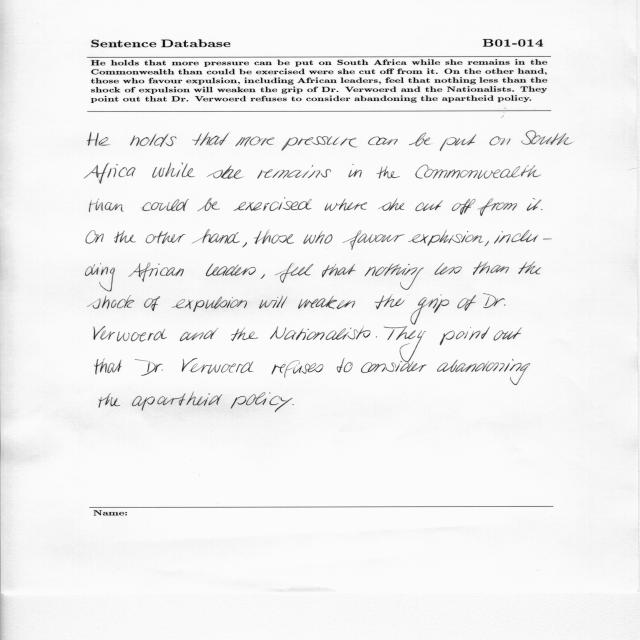word: (437, 359, 530, 385), (416, 164, 541, 179), (132, 392, 222, 411), (365, 264, 424, 290), (384, 326, 426, 360), (270, 326, 371, 340), (343, 230, 405, 250), (231, 392, 293, 412), (408, 230, 483, 246), (94, 326, 167, 342), (182, 358, 254, 374), (282, 136, 358, 151), (411, 295, 449, 325), (172, 297, 247, 312), (128, 262, 184, 282), (85, 163, 135, 184), (234, 198, 312, 211), (257, 165, 331, 178), (272, 360, 324, 378), (440, 327, 490, 345), (361, 360, 426, 373), (494, 230, 552, 244), (86, 264, 115, 292), (275, 263, 313, 283), (298, 296, 355, 309), (477, 198, 517, 216), (192, 229, 240, 244), (522, 131, 573, 145), (206, 264, 256, 277), (152, 163, 195, 178), (88, 295, 134, 309), (440, 134, 476, 151), (130, 134, 177, 147), (142, 199, 189, 211), (254, 230, 294, 244), (325, 198, 367, 211), (192, 132, 230, 146), (146, 231, 186, 244), (207, 165, 243, 179), (180, 328, 218, 341), (135, 359, 163, 376), (473, 262, 509, 275), (90, 199, 124, 212), (95, 359, 122, 375), (322, 264, 355, 277), (236, 137, 275, 147), (452, 199, 476, 215), (231, 327, 258, 341), (304, 231, 333, 244), (375, 296, 404, 309), (493, 328, 522, 341), (260, 296, 288, 309), (378, 198, 405, 211), (87, 131, 110, 146), (434, 263, 462, 275), (483, 294, 506, 308), (99, 393, 120, 408), (409, 133, 431, 147), (415, 201, 443, 212), (457, 295, 476, 311), (377, 166, 400, 179), (197, 198, 220, 211), (519, 262, 541, 275), (114, 231, 136, 243), (86, 230, 104, 244), (368, 137, 398, 145), (144, 296, 160, 311), (337, 358, 353, 373), (490, 137, 511, 146), (527, 198, 541, 211), (349, 164, 362, 177), (242, 242, 247, 247), (485, 241, 489, 246), (261, 274, 265, 279), (376, 336, 377, 338), (292, 404, 294, 405), (542, 209, 543, 210)
